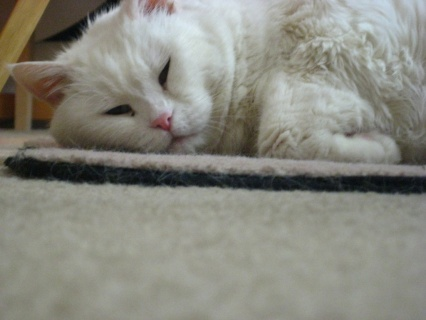Cat: (6, 0, 426, 166)
